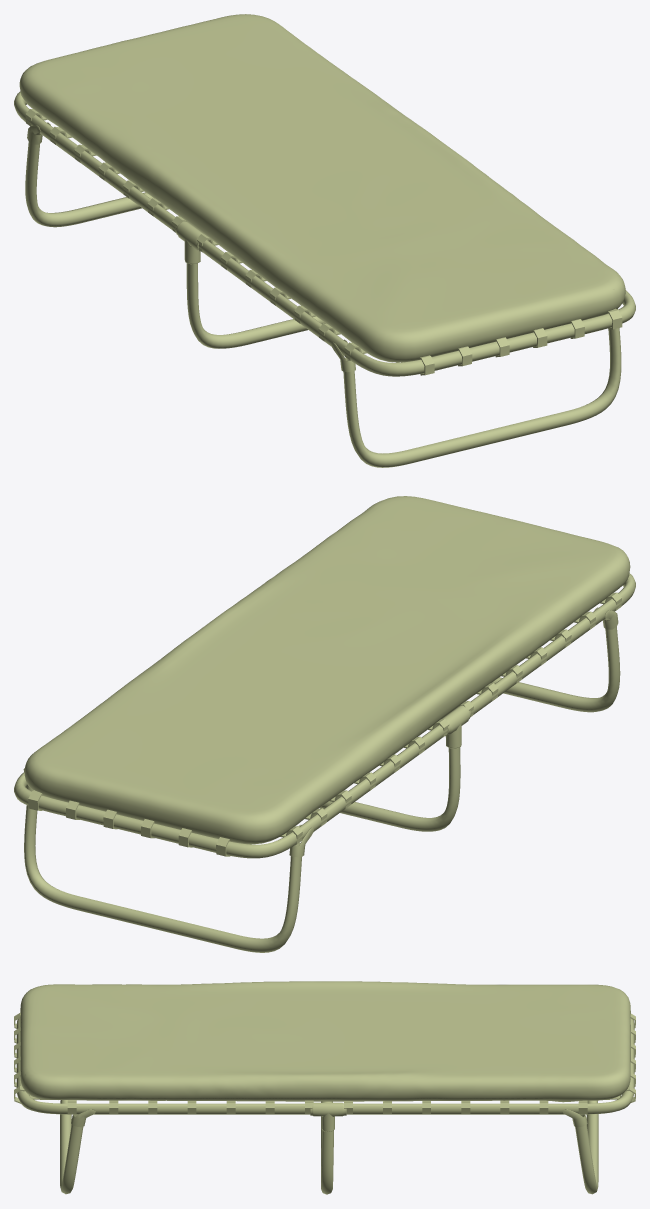
File: bed_assembled.fbx
3 renders of one model, top to bottom at view 1: azimuth 30°, elevation 25°; view 2: azimuth 150°, elevation 25°; view 3: azimuth 270°, elevation 25°, orthographic. The views are drawn at different scales.
Parts seen in each view (by area): view 1: polySurface827; view 2: polySurface827; view 3: polySurface827.
Part boxes in pixels (x1,y1,x2,y2): polySurface827: (14,14,635,467); polySurface827: (14,496,635,952); polySurface827: (14,981,635,1194).
Size of the model in its own units: 1.72 by 0.9241 by 4.18.
